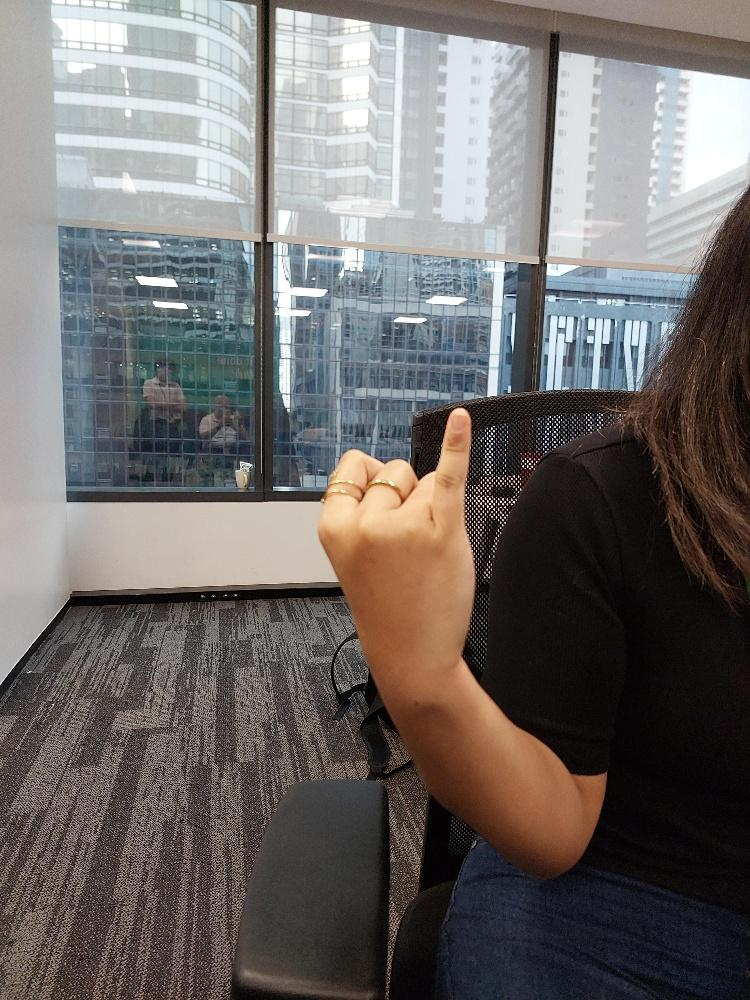j: (314, 406, 478, 696)
